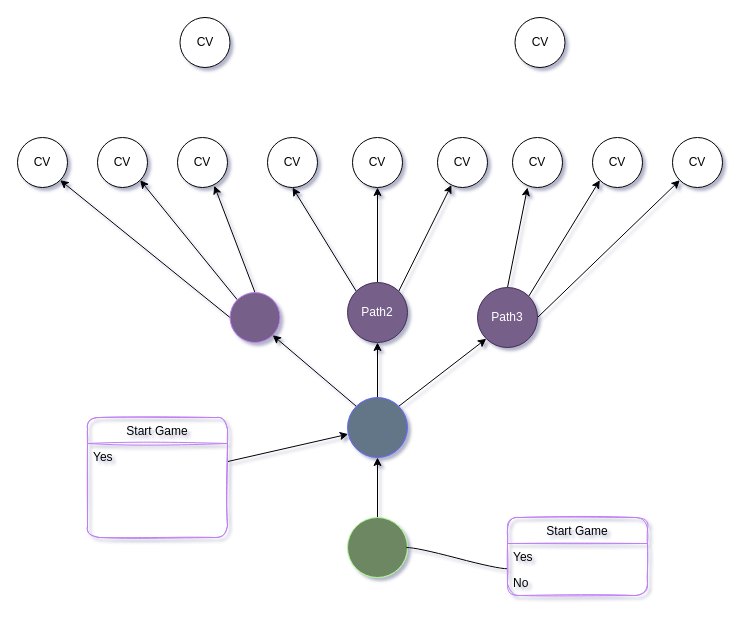
Image size: 746x622. Some labels were removed from this diagram. The shapes that lost their labels are listed below. From the top down, each one's centre as x and y in pixels, then its label:
the point at 254,317: Path1
the point at 377,427: Intro
the point at 377,547: Start
